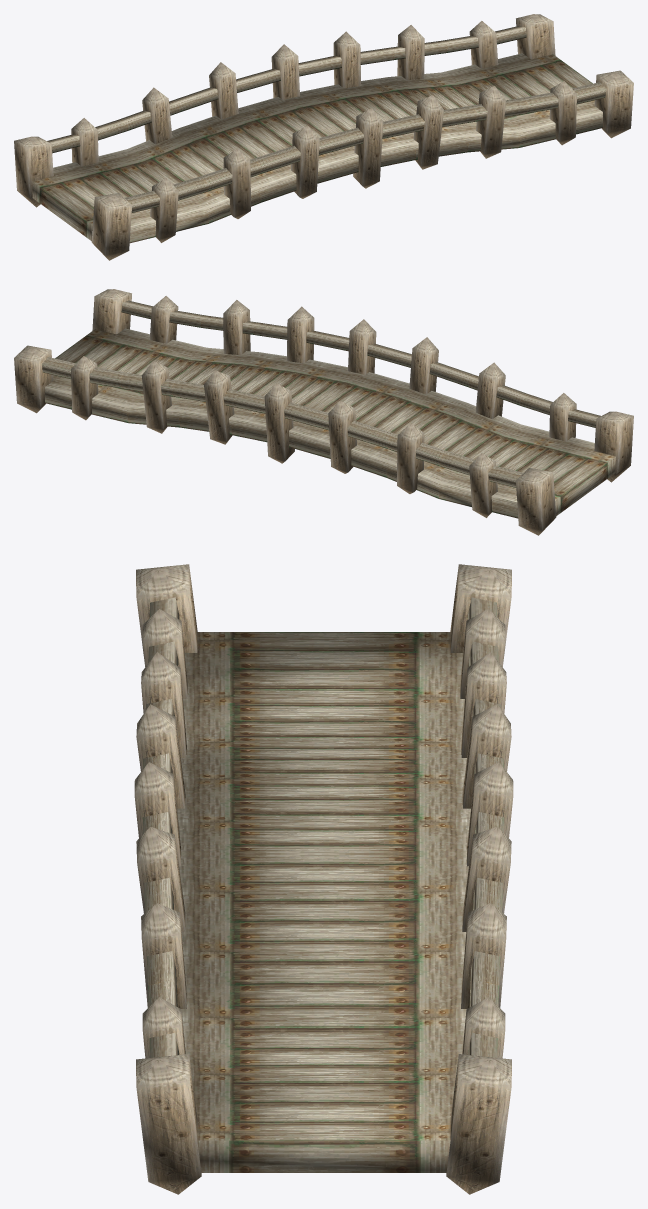
Rendered from wetlandsfootbridge01_set0.obj.
3 renders of one model, top to bottom at view 1: azimuth 30°, elevation 25°; view 2: azimuth 150°, elevation 25°; view 3: azimuth 270°, elevation 25°, orthographic. The views are drawn at different scales.
Visible parts, largest first — view 1: wetlandsbridgesm0, wetlandsbridgesm1; view 2: wetlandsbridgesm0, wetlandsbridgesm1; view 3: wetlandsbridgesm0, wetlandsbridgesm1.
Boxes of the visible parts, left/top/right/bottom form: wetlandsbridgesm0: left=32, top=26, right=606, bottom=243; wetlandsbridgesm1: left=14, top=14, right=633, bottom=260; wetlandsbridgesm0: left=42, top=300, right=615, bottom=518; wetlandsbridgesm1: left=14, top=289, right=633, bottom=535; wetlandsbridgesm0: left=142, top=597, right=504, bottom=1172; wetlandsbridgesm1: left=134, top=564, right=513, bottom=1194.
Bounding box in the file's own units: 26.26 × 4.58 × 8.19.
2 materials, 2 textured.
